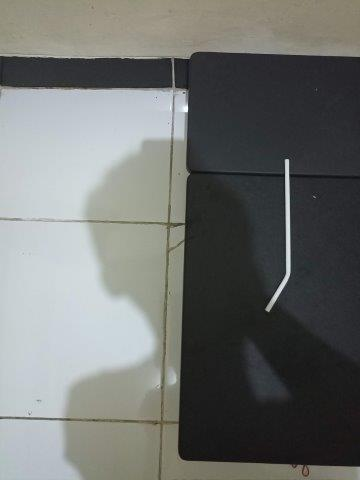sedotan: (265, 159, 291, 312)
